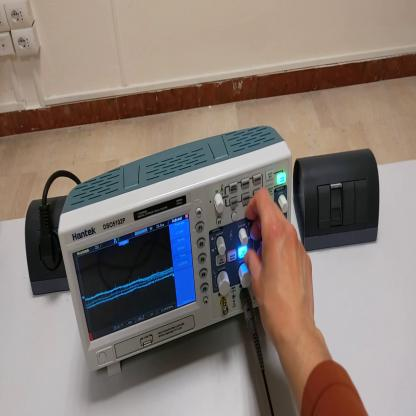hand: (242, 190, 318, 374)
oscilloscope: (58, 116, 295, 390)
socket: (25, 194, 72, 297)
